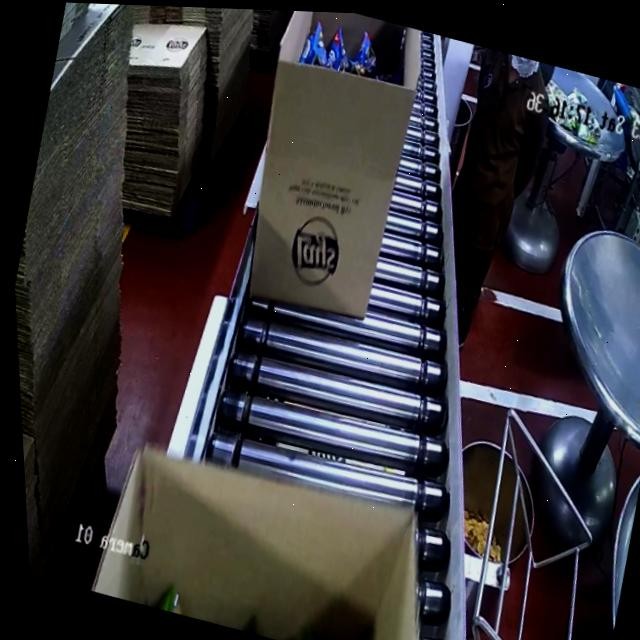PAPRIKA: (294, 12, 410, 92)
